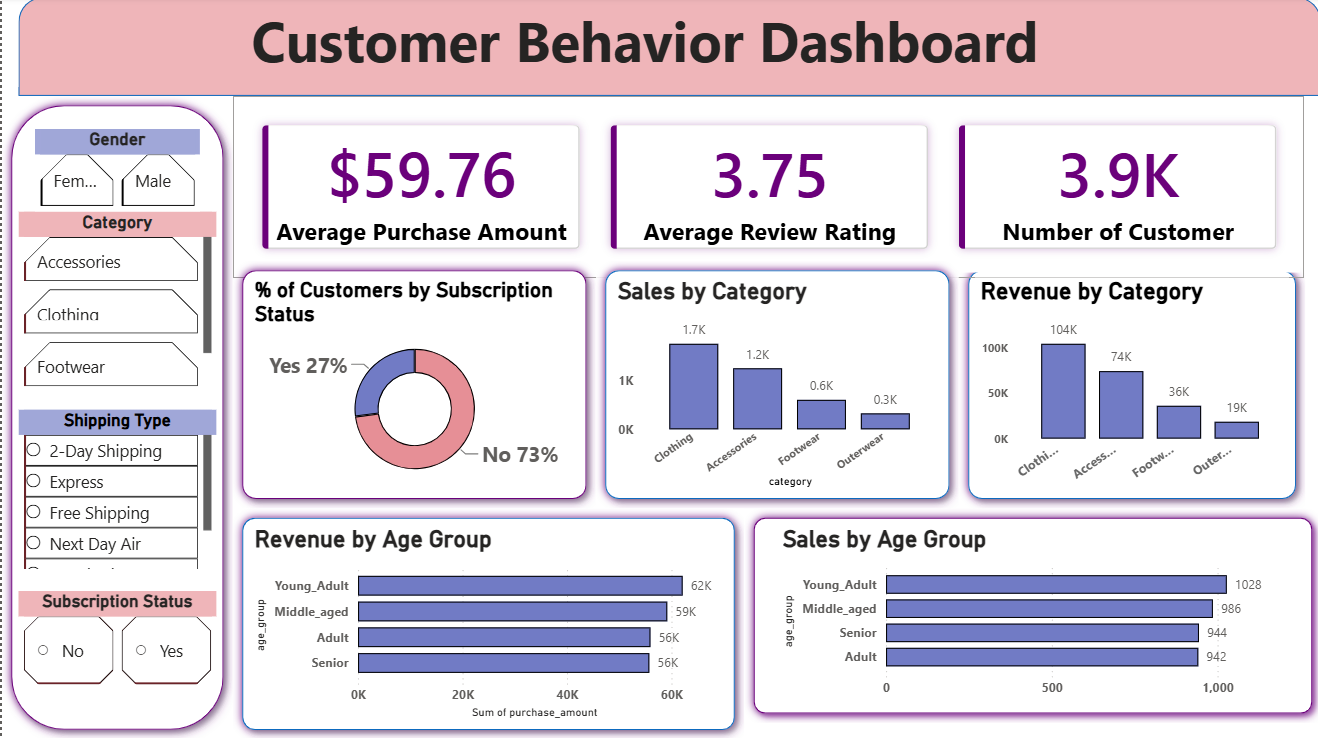

The page's visual inventory and layout, read from the dashboard file:
{"tool":"powerbi","page":{"name":"Page 1","canvas":[1280,720],"ordinal":0},"visuals":[{"type":"shape","box":[928,256,336,240],"z":0},{"type":"shape","box":[16,0,1264,96],"z":1000},{"type":"shape","box":[960,448,304,16],"z":2000},{"type":"textbox","box":[0,0,1248,96],"z":3000},{"type":"cardVisual","fields":{"Data":["customer_shopping_behavior customer.Average Purchase Amount","customer_shopping_behavior customer.Average Review Rating","customer_shopping_behavior customer.Number of Customer"]},"box":[224,96,1040,176],"z":4000},{"type":"shape","box":[576,256,352,240],"z":5000},{"type":"shape","box":[224,496,496,224],"z":6000},{"type":"shape","box":[224,256,352,240],"z":7000},{"type":"donutChart","title":"% of Customers by Subscription Status","fields":{"Category":["customer_shopping_behavior customer.subscription_status"],"Y":["CountNonNull(customer_shopping_behavior customer.customer_id)"]},"box":[240,272,320,208],"z":8000},{"type":"shape","box":[720,496,560,208],"z":9000},{"type":"clusteredColumnChart","title":"Sales by Category","fields":{"Category":["customer_shopping_behavior customer.category"],"Y":["CountNonNull(customer_shopping_behavior customer.customer_id)"]},"box":[592,272,320,208],"z":10000},{"type":"shape","box":[0,96,224,624],"z":11000},{"type":"advancedSlicerVisual","title":"Subscription Status","fields":{"Values":["customer_shopping_behavior customer.subscription_status"]},"box":[16,576,192,96],"z":12000},{"type":"advancedSlicerVisual","title":"Category","fields":{"Values":["customer_shopping_behavior customer.category"]},"box":[16,208,192,176],"z":13000},{"type":"advancedSlicerVisual","title":"Gender","fields":{"Values":["customer_shopping_behavior customer.gender"]},"box":[32,128,160,80],"z":14000},{"type":"listSlicer","title":"Shipping Type","fields":{"Values":["customer_shopping_behavior customer.shipping_type"]},"box":[16,400,192,160],"z":15000},{"type":"clusteredBarChart","title":"Revenue by Age Group","fields":{"Category":["customer_shopping_behavior customer.age_group"],"Y":["Sum(customer_shopping_behavior customer.purchase_amount)"]},"box":[240,512,464,192],"z":16000},{"type":"clusteredBarChart","title":"Sales by Age Group ","fields":{"Category":["customer_shopping_behavior customer.age_group"],"Y":["CountNonNull(customer_shopping_behavior customer.customer_id)"]},"box":[752,512,512,176],"z":17000},{"type":"clusteredColumnChart","title":"Revenue by Category","fields":{"Category":["customer_shopping_behavior customer.category"],"Y":["Sum(customer_shopping_behavior customer.purchase_amount)"]},"box":[944,272,304,208],"z":18000}]}

Visuals, with their boxes in screenshot pixels (x1, y1, x2, y2), scaled from the page's 1280x720 canvas onto the 1318x738 screenshot:
shape: l=956, t=262, r=1302, b=508
shape: l=16, t=0, r=1317, b=98
shape: l=989, t=459, r=1302, b=476
textbox: l=0, t=0, r=1285, b=98
cardVisual - customer_shopping_behavior customer.Average Purchase Amount x customer_shopping_behavior customer.Average Review Rating: l=231, t=98, r=1302, b=279
shape: l=593, t=262, r=956, b=508
shape: l=231, t=508, r=741, b=737
shape: l=231, t=262, r=593, b=508
"% of Customers by Subscription Status" donutChart: l=247, t=279, r=577, b=492
shape: l=741, t=508, r=1317, b=722
"Sales by Category" clusteredColumnChart: l=610, t=279, r=939, b=492
shape: l=0, t=98, r=231, b=737
"Subscription Status" advancedSlicerVisual: l=16, t=590, r=214, b=689
"Category" advancedSlicerVisual: l=16, t=213, r=214, b=394
"Gender" advancedSlicerVisual: l=33, t=131, r=198, b=213
"Shipping Type" listSlicer: l=16, t=410, r=214, b=574
"Revenue by Age Group" clusteredBarChart: l=247, t=525, r=725, b=722
"Sales by Age Group " clusteredBarChart: l=774, t=525, r=1302, b=705
"Revenue by Category" clusteredColumnChart: l=972, t=279, r=1285, b=492
